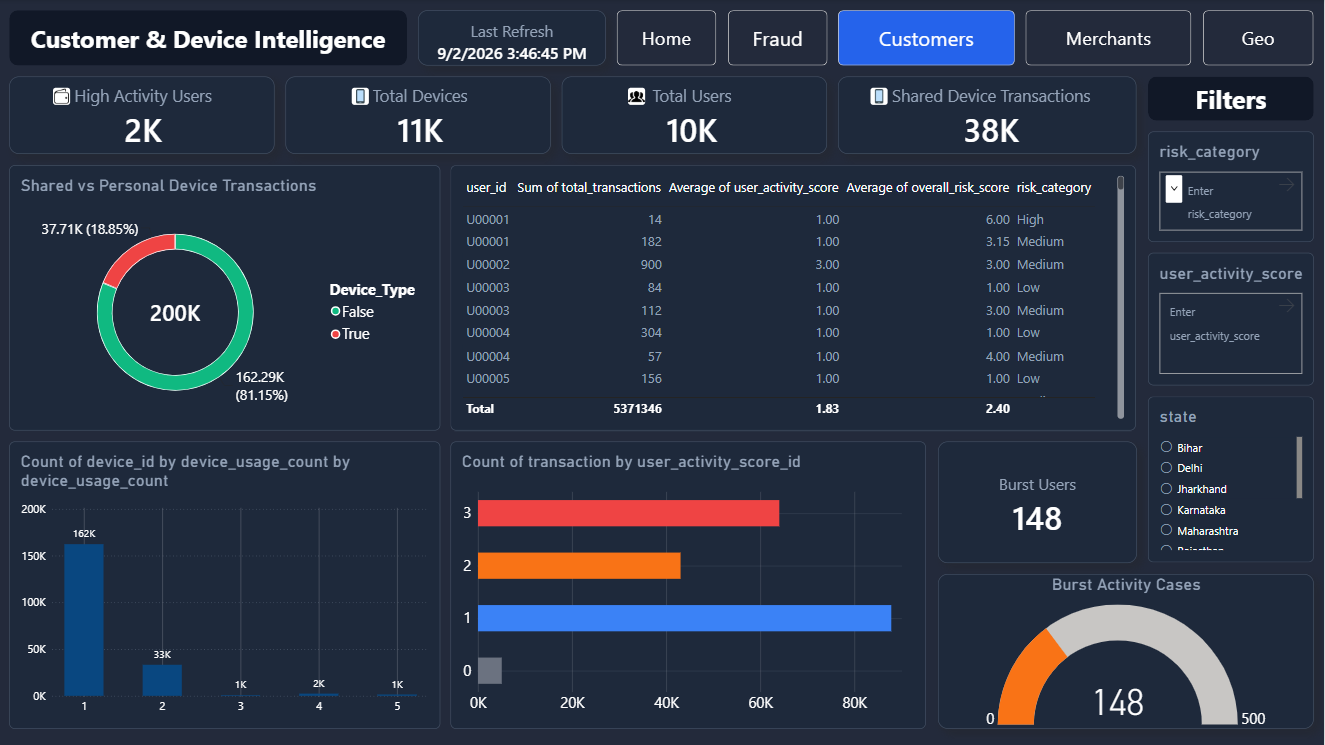

What the dashboard file says about the page in this screenshot:
{"tool":"powerbi","page":{"name":"Customer & Device","canvas":[1920,1080],"ordinal":2},"visuals":[{"type":"actionButton","title":"30_Nav_Home","box":[896,16,144,80],"z":1000},{"type":"actionButton","title":"33_Nav_Merchant","box":[1488,16,240,80],"z":2000},{"type":"actionButton","title":"31_Nav_Fraud","box":[1056,16,144,80],"z":3000},{"type":"actionButton","title":"32_Nav_Customer","box":[1216,16,256,80],"z":4000},{"type":"actionButton","title":"34_Nav_Geo","box":[1744,16,160,80],"z":5000},{"type":"cardVisual","title":"04_Last_Refresh","fields":{"Data":["Measures (4).Last Refresh"]},"box":[608,16,272,80],"z":6000},{"type":"shape","title":"02_Dashboard_Title","box":[16,16,576,80],"z":7000},{"type":"cardVisual","fields":{"Data":["Measures (4).High Activity Users"]},"box":[16,112,384,112],"z":8000},{"type":"cardVisual","fields":{"Data":["Measures (4).Total Devices"]},"box":[416,112,384,112],"z":9000},{"type":"cardVisual","fields":{"Data":["Measures (4).Total Users"]},"box":[816,112,384,112],"z":10000},{"type":"cardVisual","fields":{"Data":["Measures (4).Shared Device Transactions"]},"box":[1216,112,432,112],"z":11000},{"type":"donutChart","title":"Shared vs Personal Device Transactions","fields":{"Category":["transactions.shared_device_flag"],"Y":["CountNonNull(transactions.transaction_id)"]},"box":[16,240,624,384],"z":12000},{"type":"clusteredColumnChart","title":"Count of device_id by device_usage_count by device_usage_count","fields":{"Y":["CountNonNull(transactions.device_id)"],"Category":["transactions.device_usage_count"]},"box":[16,640,624,416],"z":13000},{"type":"tableEx","fields":{"Values":["transactions.user_id","Sum(transactions.total_transactions)","Avg(transactions.user_activity_score)","Avg(transactions.overall_risk_score)","transactions.risk_category"]},"box":[656,240,992,384],"z":14000},{"type":"cardVisual","fields":{"Data":["Measures (4).Burst Users"]},"box":[1360,640,288,176],"z":15000},{"type":"gauge","title":"Burst Activity Cases","fields":{"Y":["Measures (4).Burst Users"]},"box":[1360,832,544,224],"z":16000},{"type":"clusteredBarChart","title":"Count of transaction by user_activity_score_id ","fields":{"Category":["transactions.user_activity_score"],"Y":["CountNonNull(transactions.transaction_id)"]},"box":[656,640,688,416],"z":17000},{"type":"shape","title":"02_Dashboard_Title","box":[1664,112,240,64],"z":18000},{"type":"textSlicer","fields":{"Values":["transactions.risk_category"]},"box":[1664,192,240,160],"z":19000},{"type":"textSlicer","fields":{"Values":["transactions.user_activity_score"]},"box":[1664,368,240,192],"z":20000},{"type":"image","box":[512,128,25,25],"z":22000},{"type":"image","box":[912,128,25,25],"z":23000},{"type":"image","box":[80,128,25,25],"z":24000},{"type":"image","box":[1264,128,25,25],"z":25000},{"type":"listSlicer","fields":{"Values":["transactions.state"]},"box":[1664,576,240,240],"z":25001}]}

Visuals, with their boxes in screenshot pixels (x1, y1, x2, y2), scaled from the page's 1920x1080 canvas onto the 1325x745 screenshot:
"30_Nav_Home" actionButton: 618:11:718:66
"33_Nav_Merchant" actionButton: 1027:11:1192:66
"31_Nav_Fraud" actionButton: 729:11:828:66
"32_Nav_Customer" actionButton: 839:11:1016:66
"34_Nav_Geo" actionButton: 1204:11:1314:66
"04_Last_Refresh" cardVisual: 420:11:607:66
"02_Dashboard_Title" shape: 11:11:409:66
cardVisual - Measures (4).High Activity Users: 11:77:276:155
cardVisual - Measures (4).Total Devices: 287:77:552:155
cardVisual - Measures (4).Total Users: 563:77:828:155
cardVisual - Measures (4).Shared Device Transactions: 839:77:1137:155
"Shared vs Personal Device Transactions" donutChart: 11:166:442:430
"Count of device_id by device_usage_count by device_usage_count" clusteredColumnChart: 11:441:442:728
tableEx - transactions.user_id x Sum(transactions.total_transactions): 453:166:1137:430
cardVisual - Measures (4).Burst Users: 939:441:1137:563
"Burst Activity Cases" gauge: 939:574:1314:728
"Count of transaction by user_activity_score_id " clusteredBarChart: 453:441:928:728
"02_Dashboard_Title" shape: 1148:77:1314:121
textSlicer - transactions.risk_category: 1148:132:1314:243
textSlicer - transactions.user_activity_score: 1148:254:1314:386
image: 353:88:371:106
image: 629:88:647:106
image: 55:88:72:106
image: 872:88:890:106
listSlicer - transactions.state: 1148:397:1314:563
